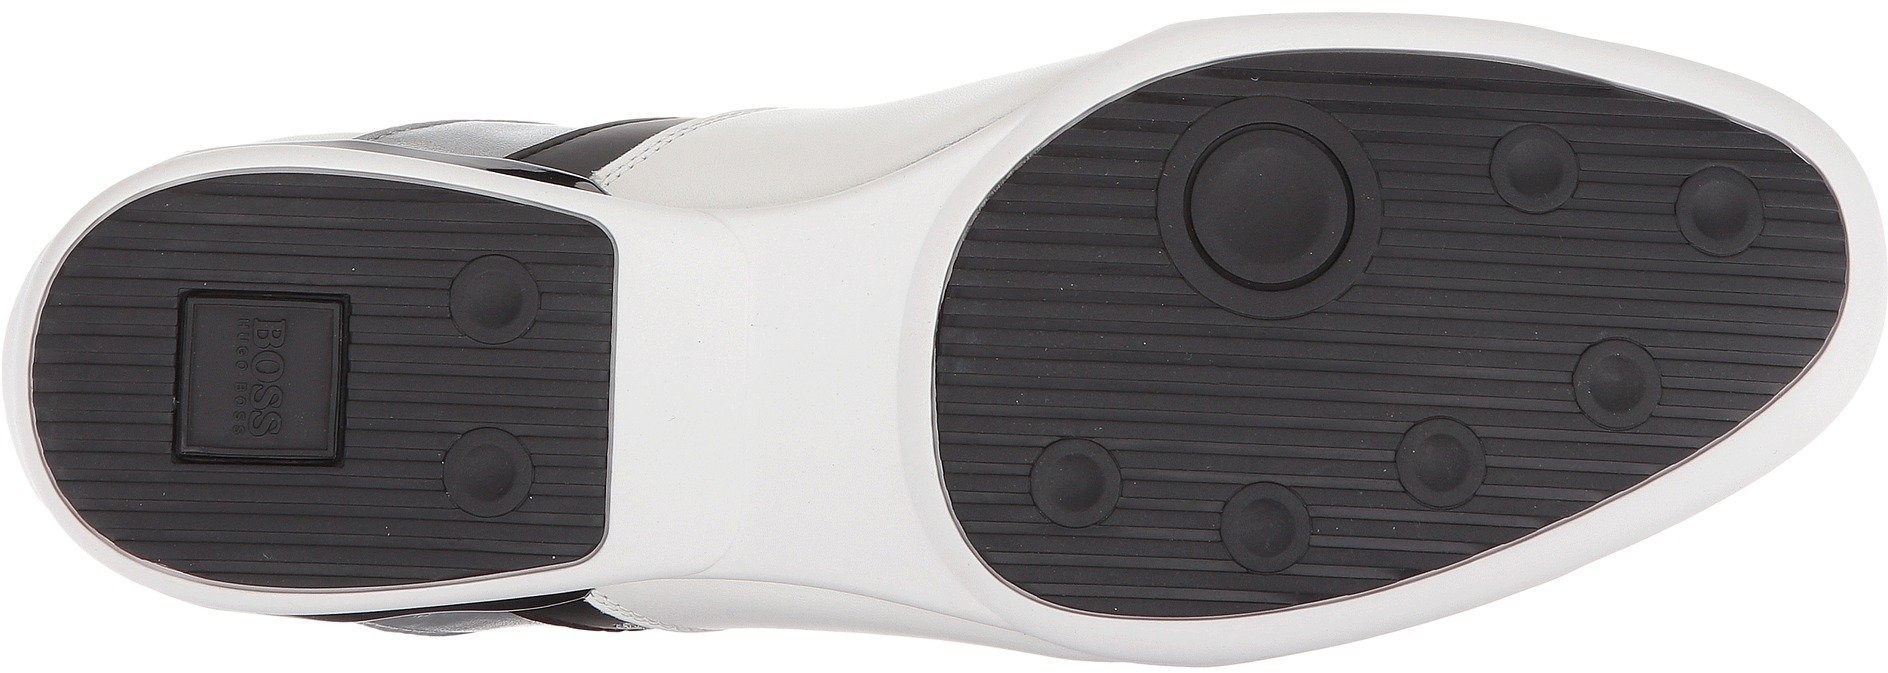circle: (1146, 95, 1393, 321), (437, 240, 551, 359), (1019, 432, 1129, 549), (433, 420, 549, 527), (1217, 474, 1323, 586), (1666, 157, 1777, 262), (1564, 332, 1671, 433), (1483, 118, 1587, 219), (1402, 423, 1492, 512)
quad: (169, 281, 374, 472), (980, 247, 1170, 419), (1410, 214, 1554, 374)
text: (238, 378, 299, 443), (238, 317, 297, 380)
